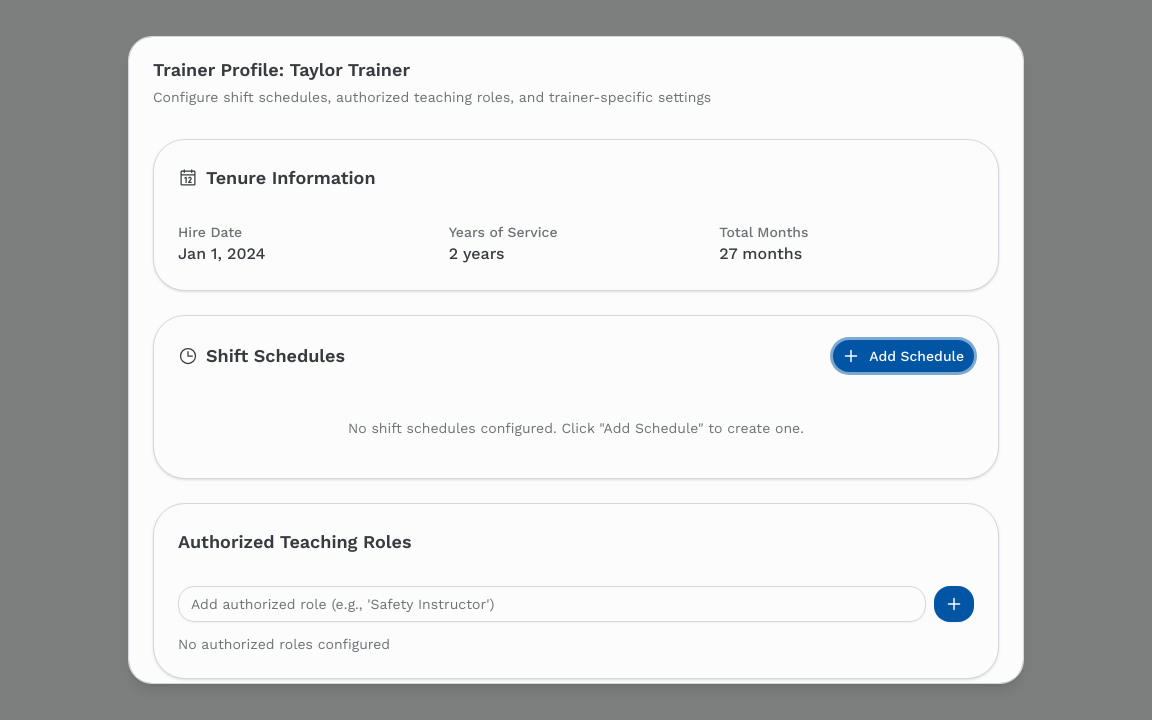
TrainerProfileDialog › removes a shift schedule
Click the button "Add Schedule" at (904,356), box [833,340,974,372]
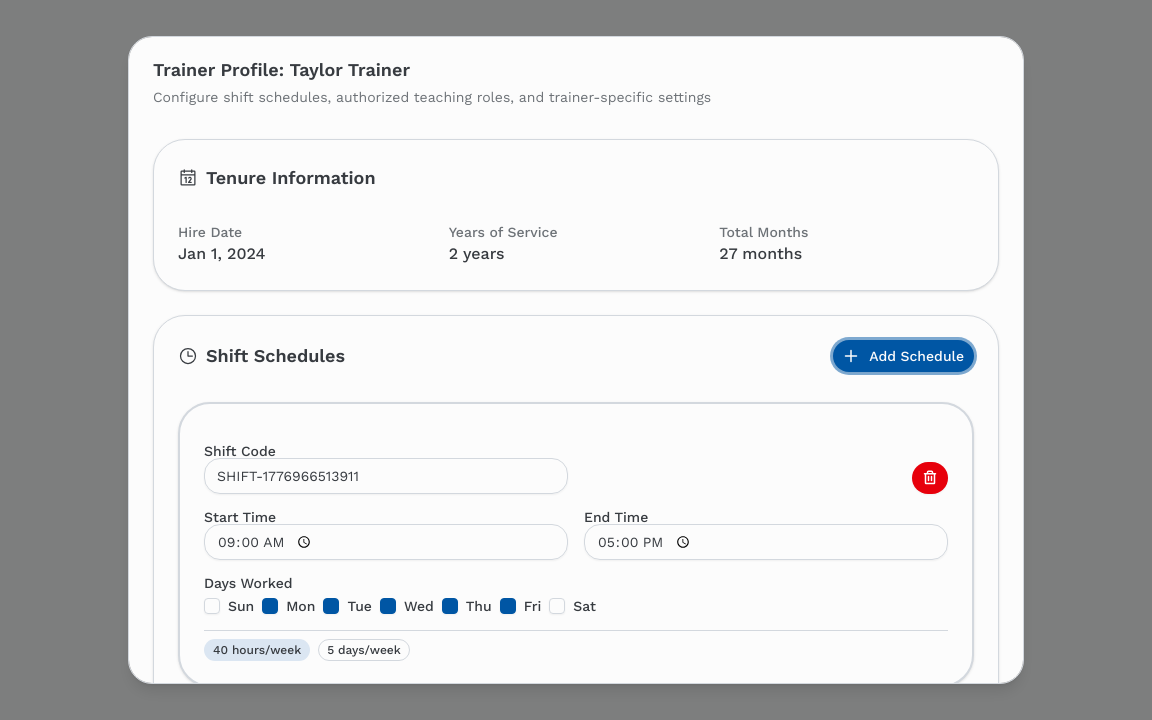
Now the field with placeholder "e.g., SHIFT-A" is shown, box [204,458,568,494]
The remove (trash) button uses an accessible aria-label
Click the button named "remove schedule" at (930,478), box [912,462,948,494]
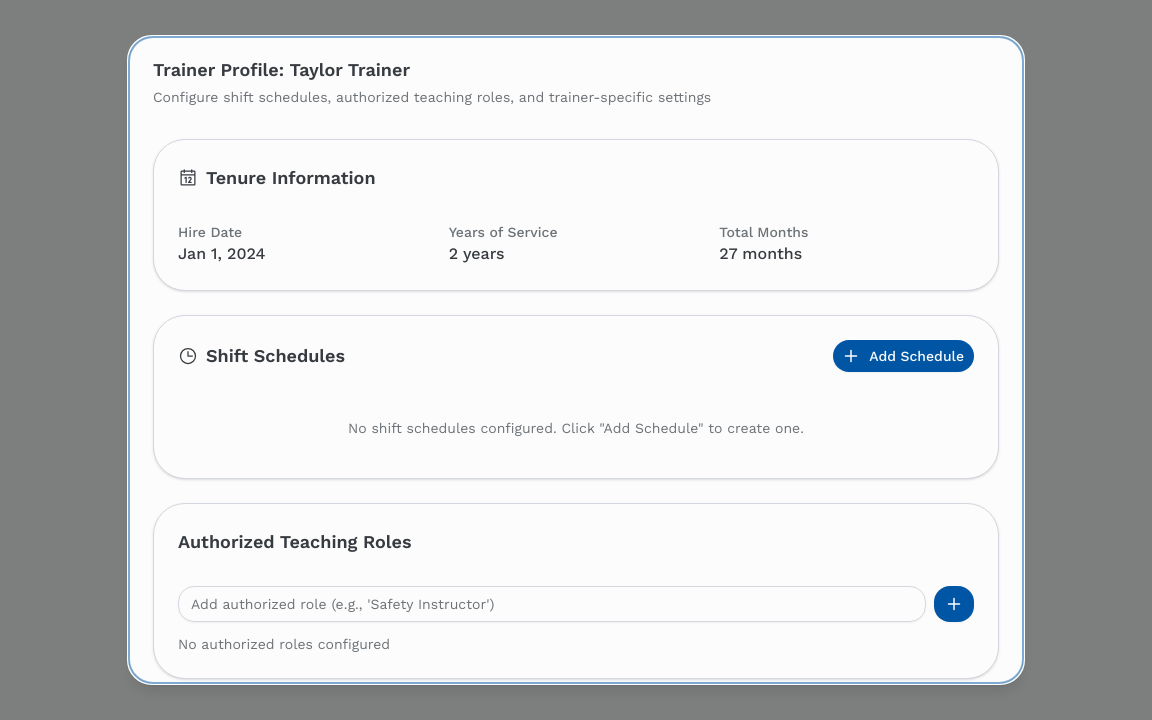
Now the text "No shift schedules configured" is shown, box [348,420,804,436]
